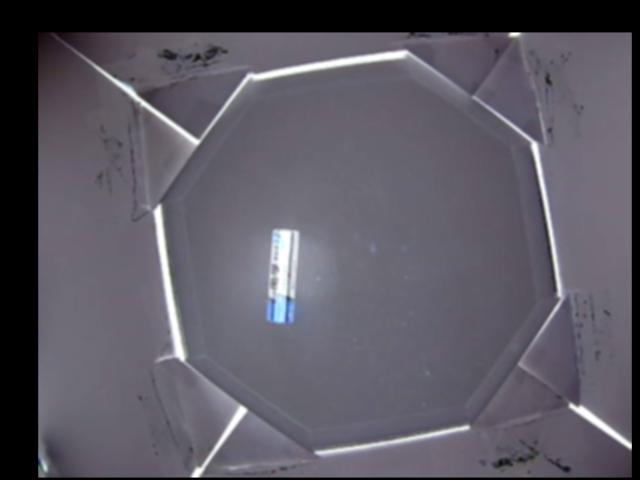Battery: (267, 229, 298, 323)
